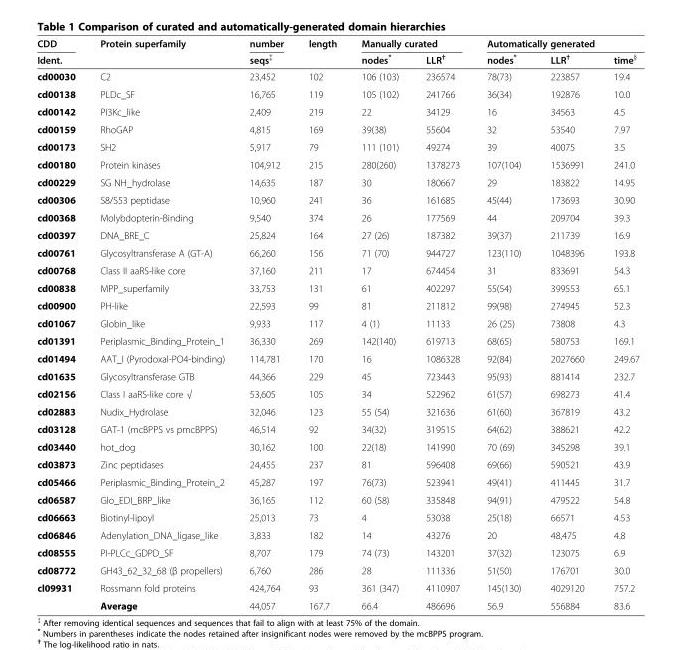table: (36, 37, 638, 610)
table column: (87, 37, 236, 610), (348, 37, 411, 610), (472, 37, 535, 610), (535, 37, 598, 610), (411, 37, 472, 610), (236, 37, 295, 610), (295, 37, 348, 610), (36, 37, 87, 610), (598, 37, 638, 610)
table column header: (36, 37, 638, 67)
table row: (36, 84, 638, 102), (36, 102, 638, 120), (36, 137, 638, 155), (36, 155, 638, 173), (36, 190, 638, 208), (36, 225, 638, 243), (36, 243, 638, 261), (36, 278, 638, 296), (36, 296, 638, 314), (36, 331, 638, 349), (36, 349, 638, 367), (36, 384, 638, 402), (36, 419, 638, 437), (36, 437, 638, 455), (36, 472, 638, 490), (36, 490, 638, 508), (36, 525, 638, 543), (36, 560, 638, 578), (36, 578, 638, 596), (36, 50, 638, 67), (36, 67, 638, 84), (36, 120, 638, 137), (36, 173, 638, 190), (36, 208, 638, 225), (36, 261, 638, 278), (36, 314, 638, 331), (36, 367, 638, 384), (36, 402, 638, 419), (36, 455, 638, 472), (36, 508, 638, 525), (36, 543, 638, 560), (36, 596, 638, 610), (36, 37, 638, 50)
table spanning cell: (87, 37, 236, 67), (472, 37, 638, 50), (236, 37, 295, 67), (36, 578, 87, 610), (348, 37, 472, 50), (295, 37, 348, 67), (36, 37, 87, 67)
